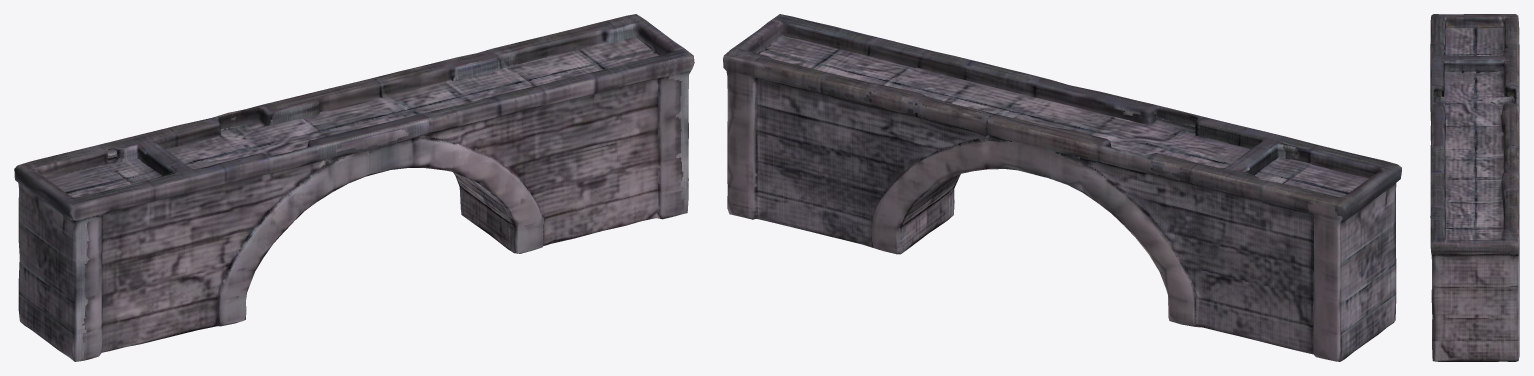
Rendered from Bridge.glb.
3 views of the same model, side by side, from view 1: azimuth 30°, elevation 25°; view 2: azimuth 150°, elevation 25°; view 3: azimuth 270°, elevation 25° (orthographic). The views are drawn at different scales.
Size of the model in its own units: 1 by 0.2461 by 0.1645.
1 material, 1 textured.
